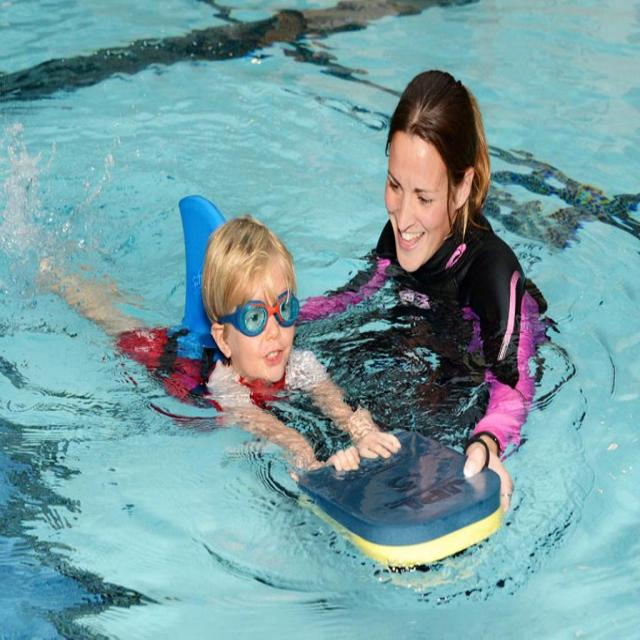Face: (386, 136, 464, 287), (221, 264, 299, 398)
